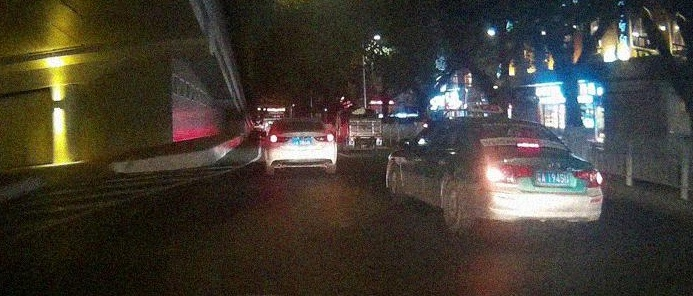L_light: (482, 164, 530, 181), (270, 135, 289, 142)
R_light: (572, 169, 601, 185), (313, 133, 334, 142)
T_light: (516, 142, 539, 149), (296, 121, 306, 124)
night-left: (468, 119, 602, 237)
night-no: (269, 119, 337, 175)
